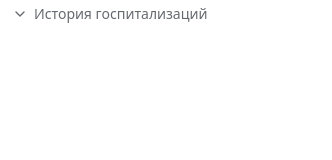
Scenario: PreviousHospitalizations › says so when there are no other stays
Click the button "История госпитализаций" at (110, 14), box [12,4,208,24]
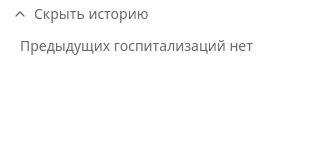
Expected: the text "Предыдущих госпитализаций нет" is shown, [20,36,253,55]
